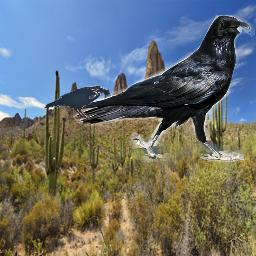Crow: (73, 15, 255, 162), (43, 85, 109, 119)
